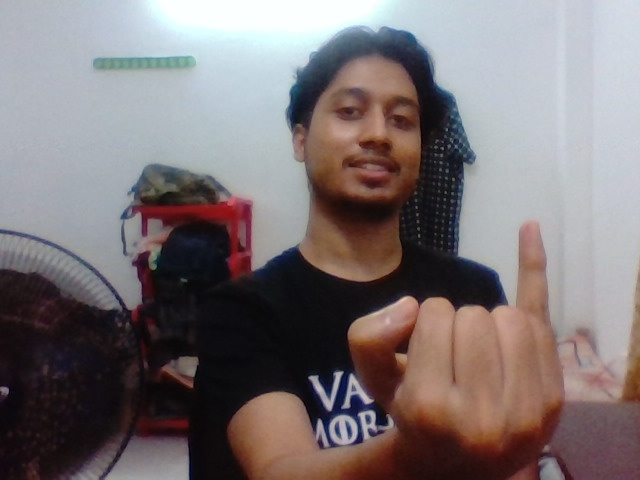I: (388, 205, 586, 440)
